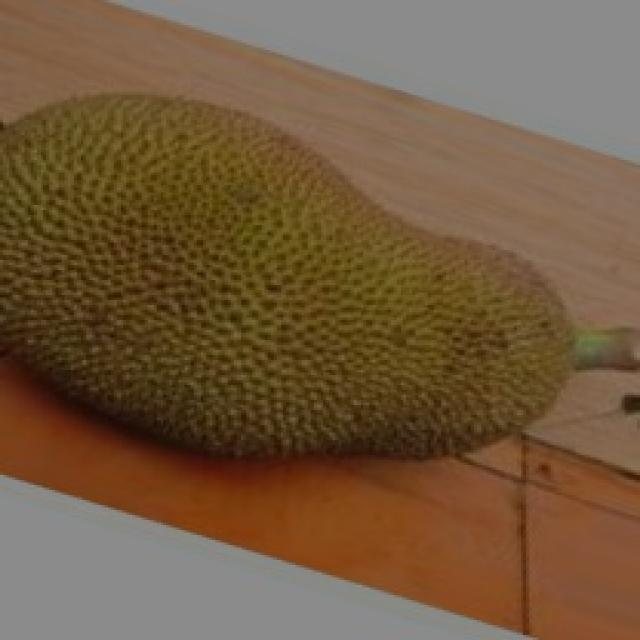Fruit: (274, 92, 615, 492)
